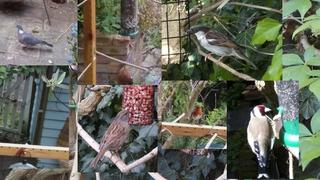dunnock: (90, 109, 134, 168)
goldfinch: (247, 105, 275, 179)
robin: (188, 105, 203, 126)
sparrow: (186, 24, 258, 69)
wood pigeon: (15, 24, 54, 50)
